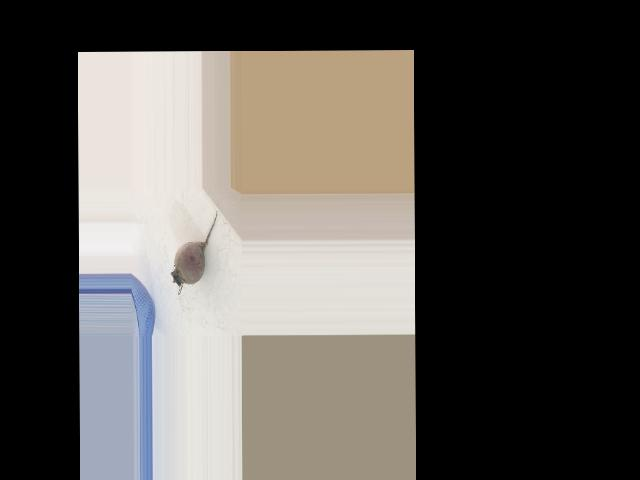beet: (170, 210, 218, 294)
